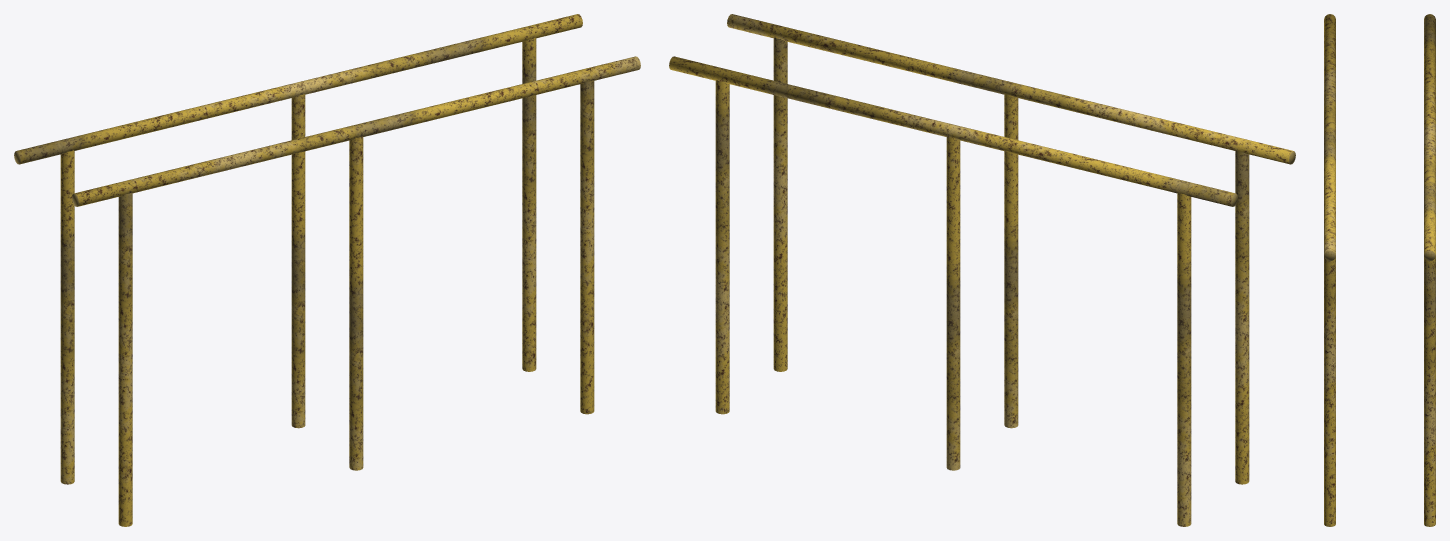
File: playground_parallel_bars_web.glb
3 views of the same model, side by side, from view 1: azimuth 30°, elevation 25°; view 2: azimuth 150°, elevation 25°; view 3: azimuth 270°, elevation 25° (orthographic). The views are drawn at different scales.
Visible parts, largest first — view 1: ParallelBars_Mesh; view 2: ParallelBars_Mesh; view 3: ParallelBars_Mesh.
Boxes of the visible parts, x1,y1,x2,y2 form: ParallelBars_Mesh: [14, 14, 640, 526]; ParallelBars_Mesh: [669, 14, 1295, 526]; ParallelBars_Mesh: [1324, 14, 1435, 526].
Size of the model in its own units: 2.8 by 1.63 by 0.5601.
1 material, 1 textured.
